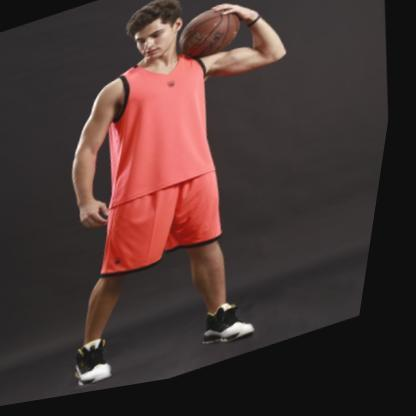basketball: (174, 6, 248, 73)
